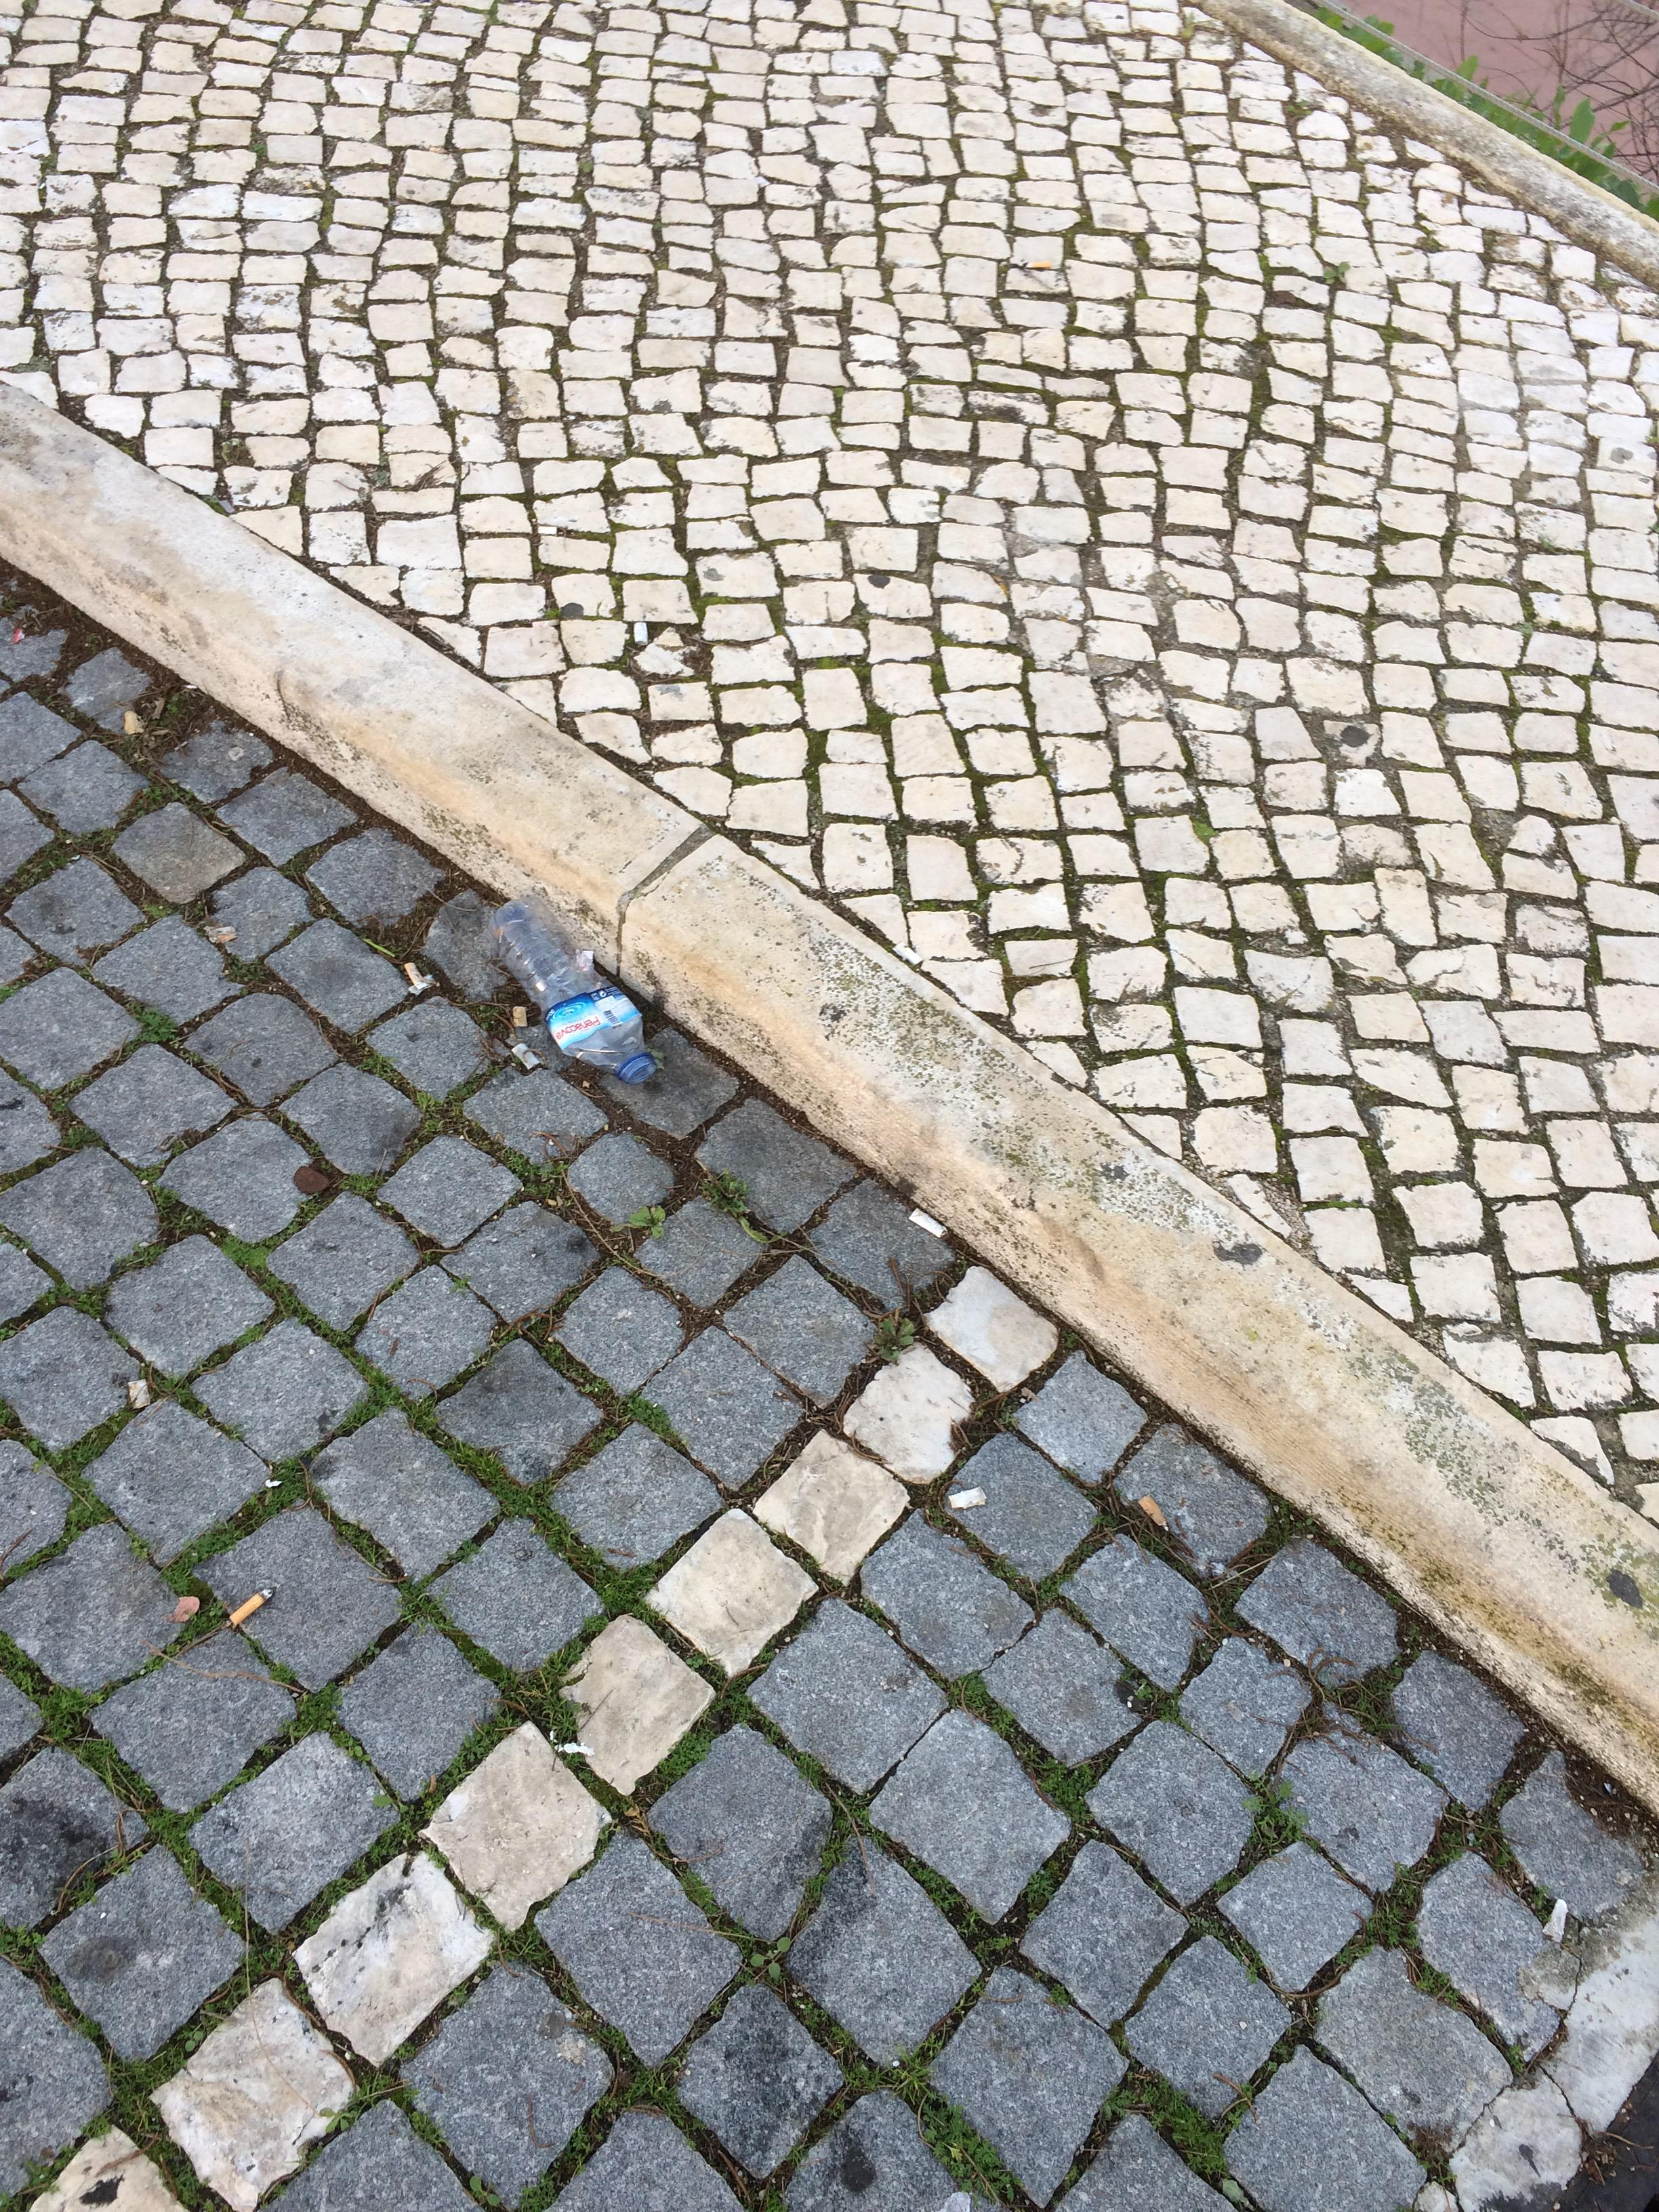Trash: (476, 888, 664, 1085)
